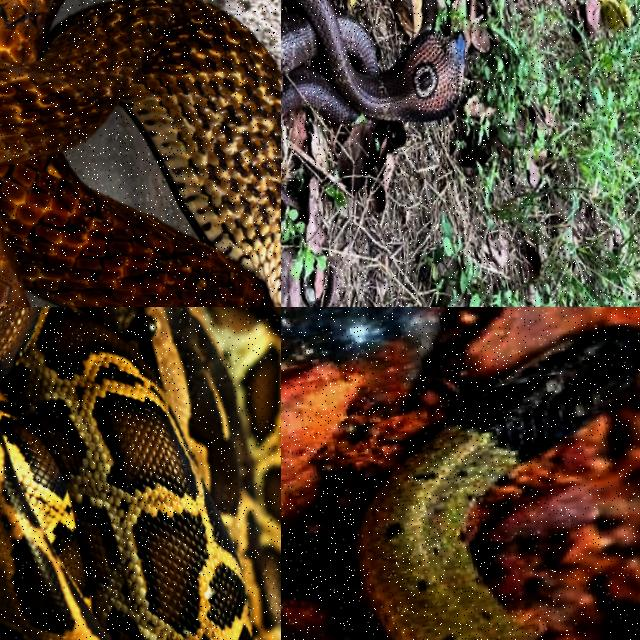Calliophis maculiceps: (356, 327, 639, 639)
Naja kaouthia: (0, 0, 280, 306), (281, 0, 465, 123)
Python bivittatus: (0, 307, 280, 639)
